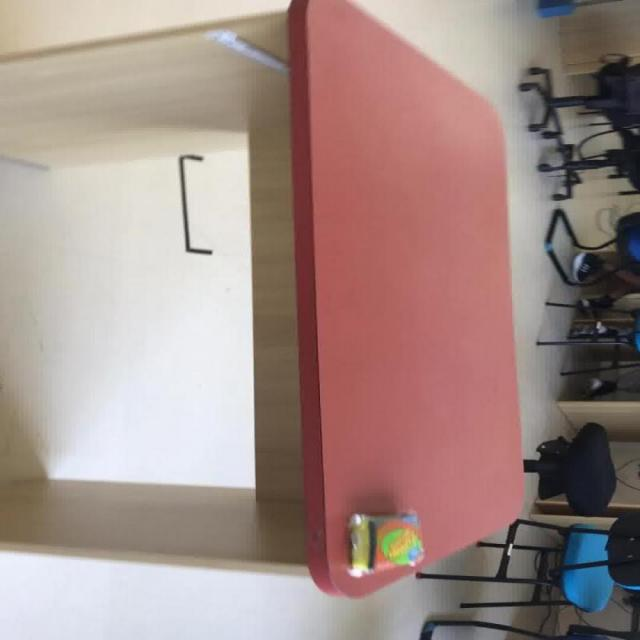Sponge: (346, 510, 424, 576), (559, 522, 613, 612)
